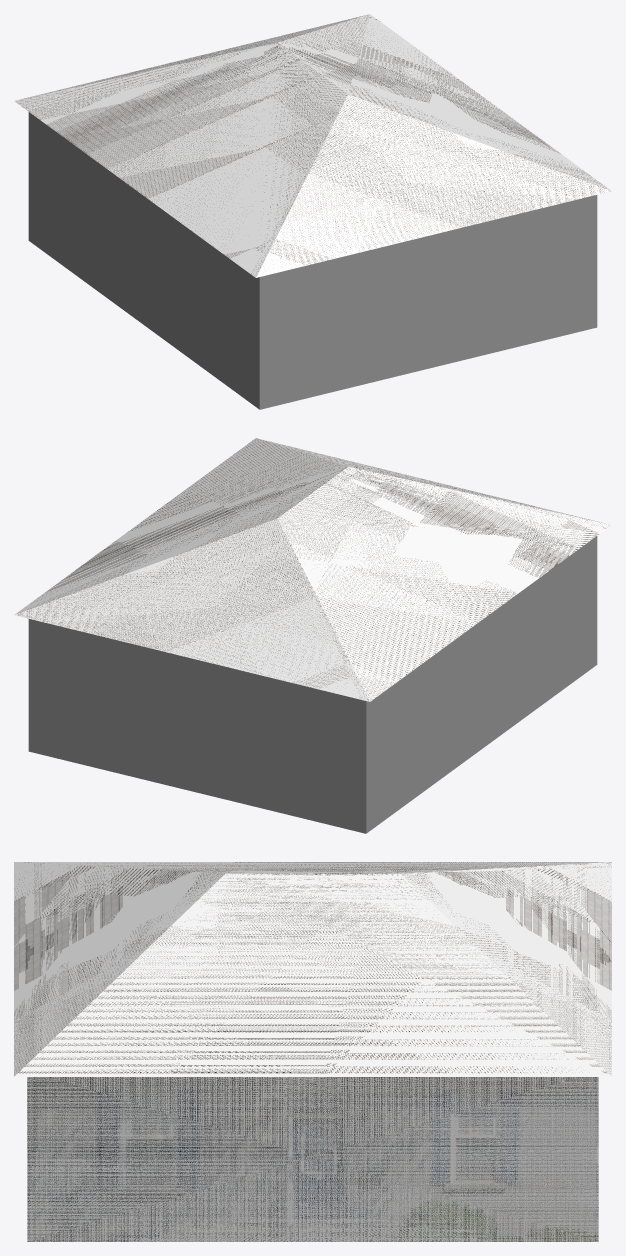
Rendered from 13AugustaSt.dae.
3 views of the same model, one above another, from view 1: azimuth 30°, elevation 25°; view 2: azimuth 150°, elevation 25°; view 3: azimuth 270°, elevation 25° (orthographic). The views are drawn at different scales.
Parts seen in each view (by area): view 1: SketchUp (×2); view 2: SketchUp (×2); view 3: SketchUp (×2), image_0.
Boxes of the visible parts, <box> form: SketchUp (×2): <box>14,14,611,409</box>; SketchUp (×2): <box>14,438,611,833</box>; SketchUp (×2): <box>14,862,611,1241</box>; image_0: <box>27,1077,598,1241</box>.
Bounding box in the file's own units: 461 × 543 × 267.
11 materials, 2 textured.
